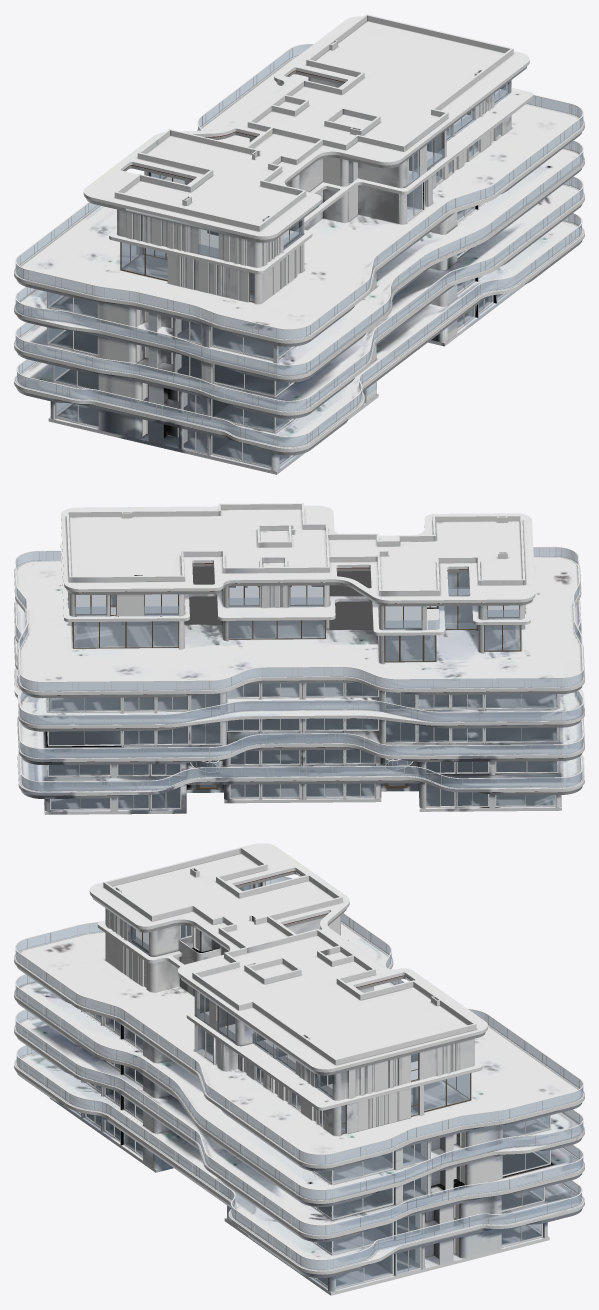
File: Elie Saab_build_4.glb
The picture shows the model from 3 angles, top to bottom: view 1: azimuth 30°, elevation 25°; view 2: azimuth 150°, elevation 25°; view 3: azimuth 270°, elevation 25°; orthographic projection. The views are drawn at different scales.
Parts seen in each view (by area): view 1: Elie Saab_build.004; view 2: Elie Saab_build.004; view 3: Elie Saab_build.004.
Part boxes in pixels (bbox=[...]): Elie Saab_build.004: bbox=[14, 14, 584, 474]; Elie Saab_build.004: bbox=[14, 503, 584, 814]; Elie Saab_build.004: bbox=[14, 843, 584, 1295].
Bounding box in the file's own units: 57.82 × 21.3 × 49.87.
10 materials, 5 textured.
